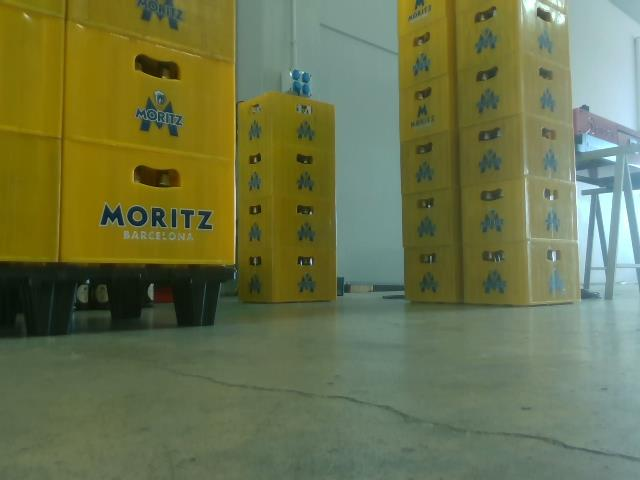block: (16, 273, 80, 336), (187, 278, 225, 329), (110, 277, 146, 323)
hole pallet: (72, 275, 189, 337)
